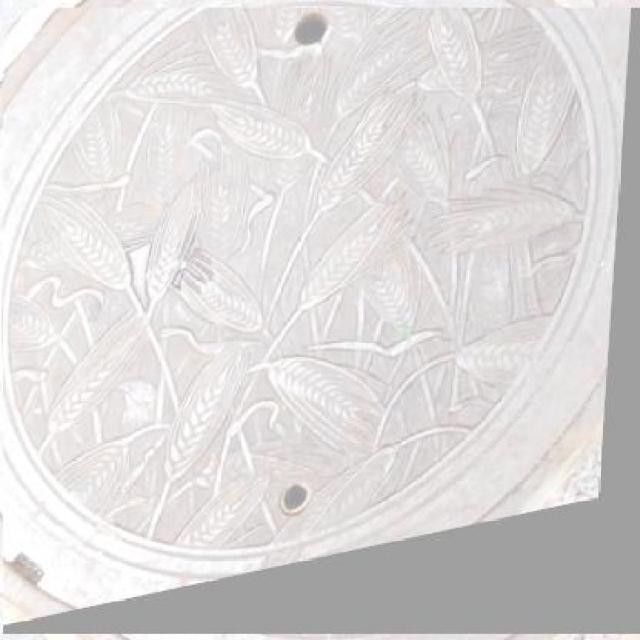Manhole: (3, 8, 640, 634)
